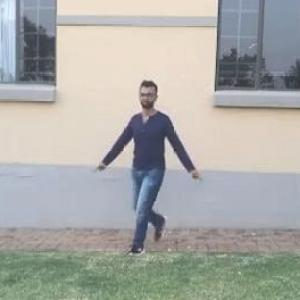land: (89, 76, 211, 262)
